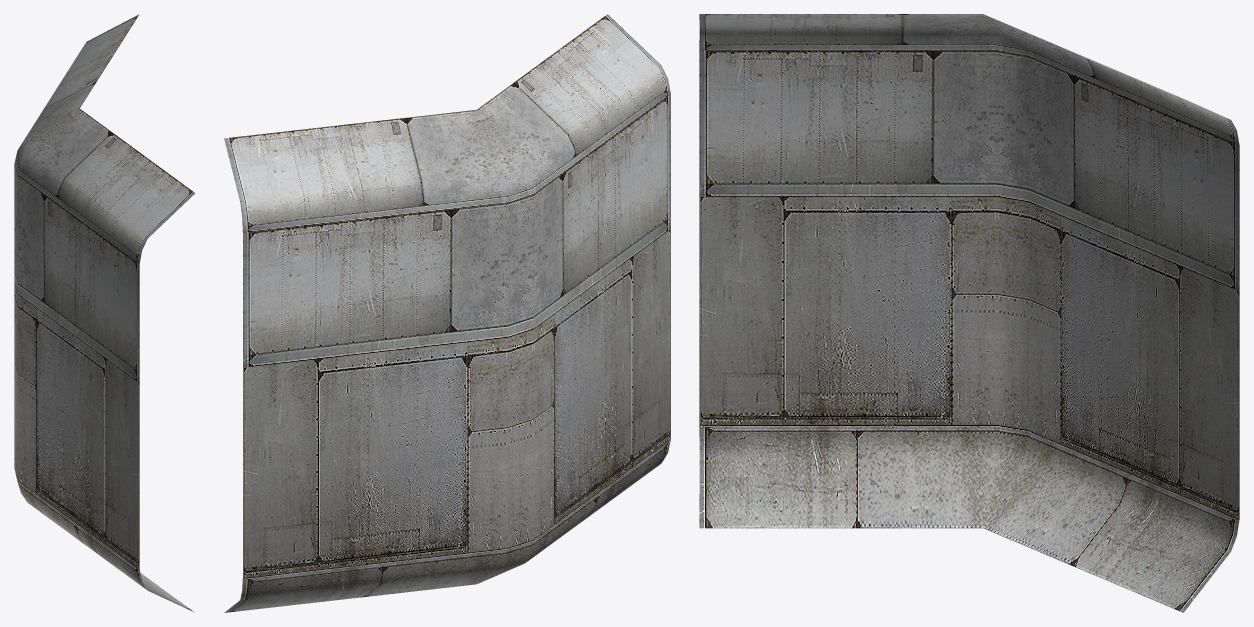
Rendered from Wall_F_Big4mts_03.fbx.
3 renders of one model, left to right at view 1: azimuth 30°, elevation 25°; view 2: azimuth 150°, elevation 25°; view 3: azimuth 270°, elevation 25°, orthographic. The views are drawn at different scales.
Parts seen in each view (by area): view 1: Wall_F_Big4mts_03; view 2: Wall_F_Big4mts_03; view 3: Wall_F_Big4mts_03.
Boxes of the visible parts, <box> form: Wall_F_Big4mts_03: <box>14,14,195,612</box>; Wall_F_Big4mts_03: <box>224,14,670,612</box>; Wall_F_Big4mts_03: <box>699,14,1239,612</box>.
Bounding box in the file's own units: 493 × 1000 × 952.
